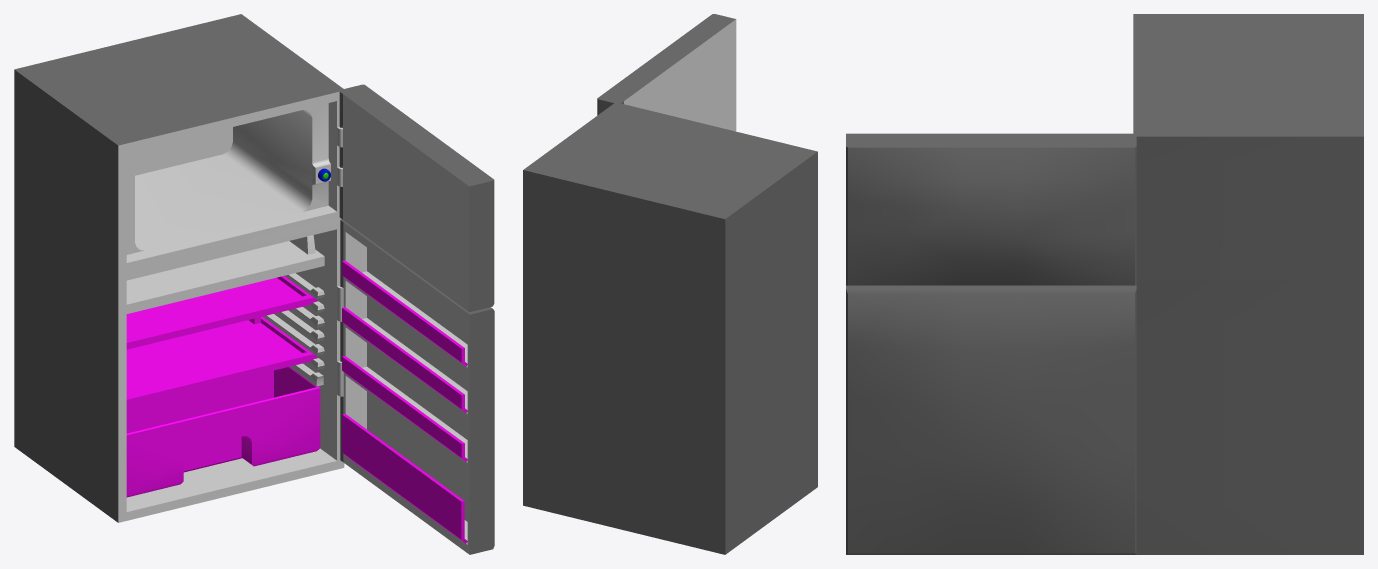
The model's file is fridge.fbx.
The picture shows the model from 3 angles, left to right: view 1: azimuth 30°, elevation 25°; view 2: azimuth 150°, elevation 25°; view 3: azimuth 270°, elevation 25°; orthographic projection. The views are drawn at different scales.
Parts seen in each view (by area): view 1: Fridge; view 2: Fridge; view 3: Fridge.
Part boxes in pixels (x1,y1,x2,y2): Fridge: (14,14,494,554); Fridge: (523,14,817,554); Fridge: (846,14,1363,554).
Bounding box in the file's own units: 145 × 200 × 225.
